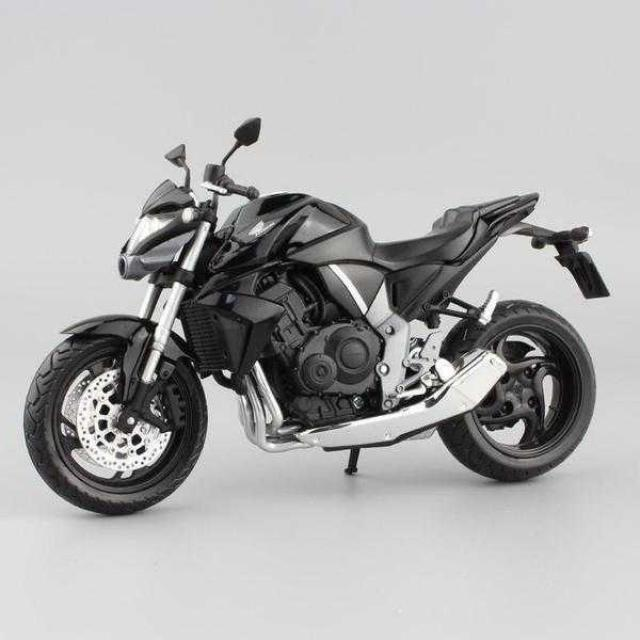Cycle: (42, 213, 616, 465)
